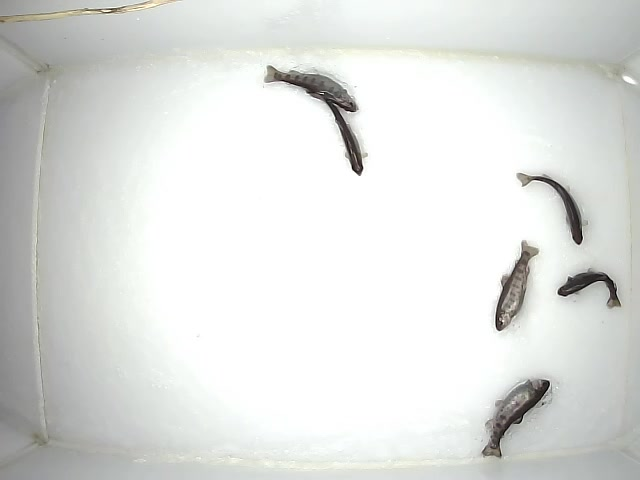fish: (480, 376, 552, 460), (511, 170, 589, 245), (308, 89, 369, 177), (263, 62, 360, 115), (492, 238, 542, 332), (556, 268, 624, 309)
